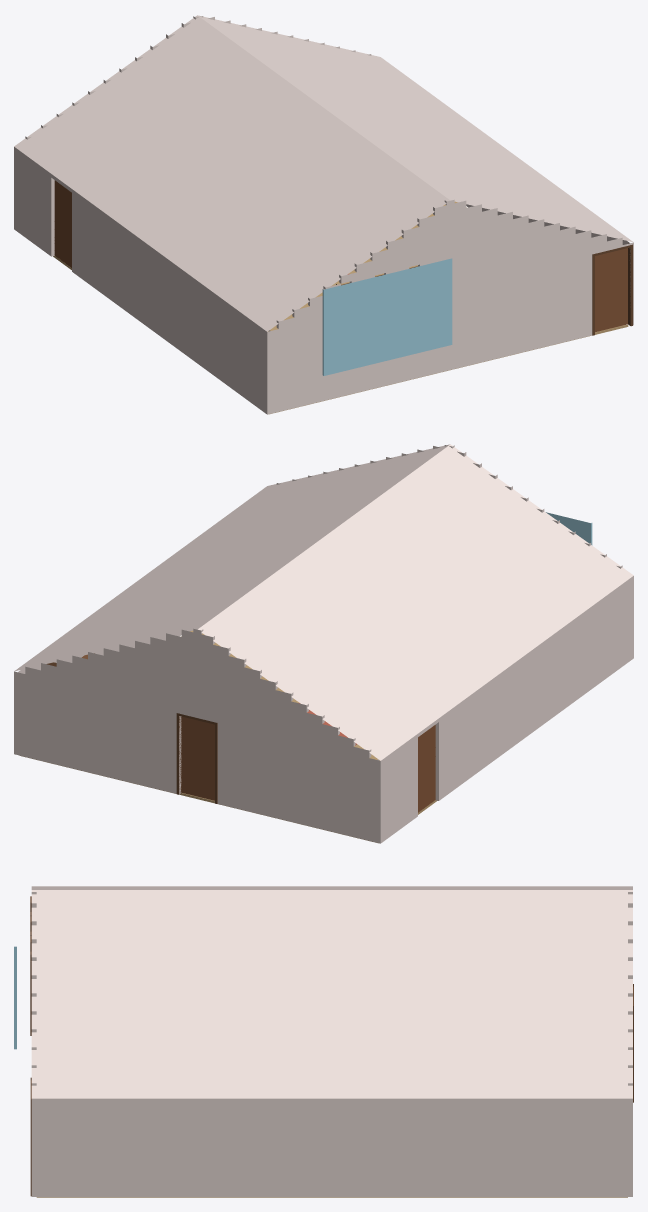
File: room_bed_a.glb
3 views of the same model, one above another, from view 1: azimuth 30°, elevation 25°; view 2: azimuth 150°, elevation 25°; view 3: azimuth 270°, elevation 25° (orthographic). The views are drawn at different scales.
Parts seen in each view (by area): view 1: CEILING, WALLS, VIEW_window_N, DOOR_stairs_down, DOOR_corridor, FRAMES; view 2: CEILING, WALLS, DOOR_game, DOOR_corridor, FRAMES, VIEW_window_N; view 3: CEILING, WALLS, FRAMES, FLOOR_visible.
Part boxes in pixels (left/top/right/bottom): CEILING: left=14, top=15, right=633, bottom=331; WALLS: left=14, top=16, right=633, bottom=414; VIEW_window_N: left=322, top=258, right=452, bottom=375; DOOR_stairs_down: left=595, top=248, right=627, bottom=332; DOOR_corridor: left=54, top=180, right=71, bottom=267; FRAMES: left=336, top=243, right=632, bottom=335; CEILING: left=14, top=444, right=633, bottom=760; WALLS: left=14, top=445, right=633, bottom=843; DOOR_game: left=181, top=716, right=214, bottom=800; DOOR_corridor: left=418, top=725, right=435, bottom=812; FRAMES: left=176, top=713, right=217, bottom=803; VIEW_window_N: left=546, top=512, right=592, bottom=545; CEILING: left=31, top=886, right=632, bottom=1098; WALLS: left=31, top=892, right=632, bottom=1196; FRAMES: left=30, top=896, right=633, bottom=1196; FLOOR_visible: left=36, top=1197, right=627, bottom=1197.
Size of the model in its own units: 10.2 by 4.56 by 12.58.
